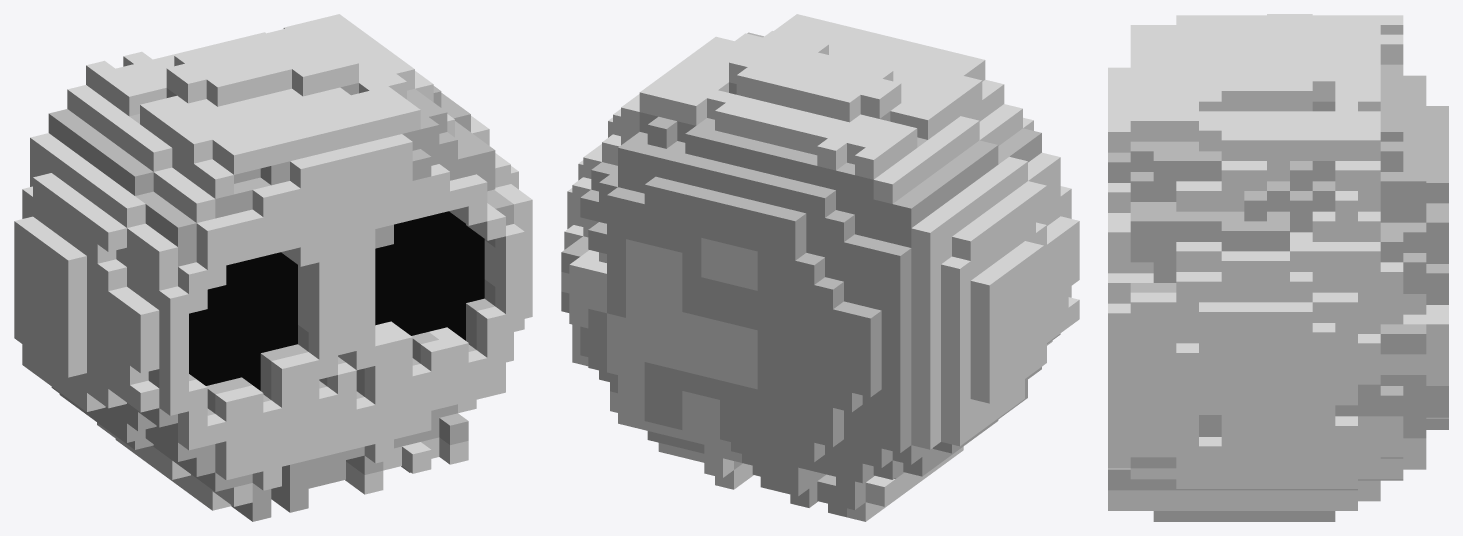
Rendered from skull3.obj.
The picture shows the model from 3 angles, left to right: view 1: azimuth 30°, elevation 25°; view 2: azimuth 150°, elevation 25°; view 3: azimuth 270°, elevation 25°; orthographic projection. The views are drawn at different scales.
Bounding box in the file's own units: 2.3 × 2 × 1.5.
1 material, 1 textured.
